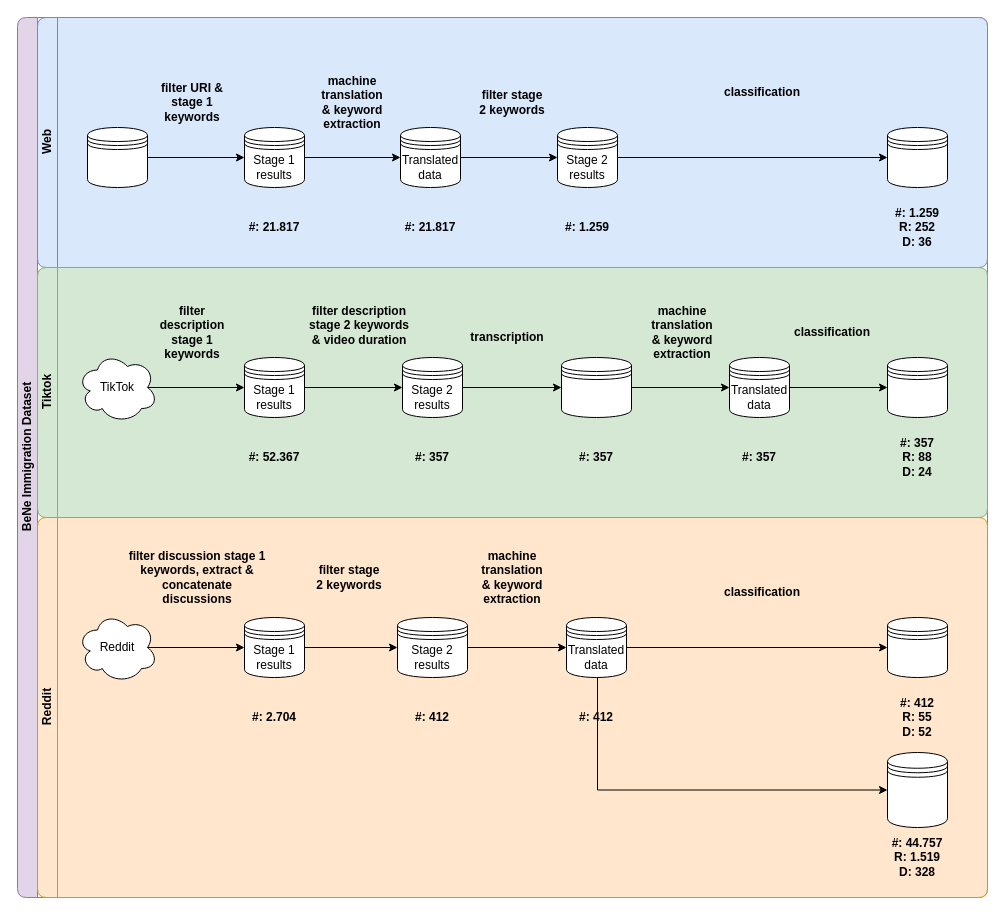
The diagram is 1005 pixels wide and 915 high, and some of its shapes have lost their labels. The box of each missing label's shape, as (x1, y1, x2, y2) in pixels:
Common Crawl: (86, 126, 148, 188)
Reddit data: (886, 616, 948, 678)
Reddit threaded data: (886, 752, 948, 828)
TikTok data: (886, 356, 948, 418)
Transcribed data: (560, 356, 632, 418)
Web data: (886, 126, 948, 188)
